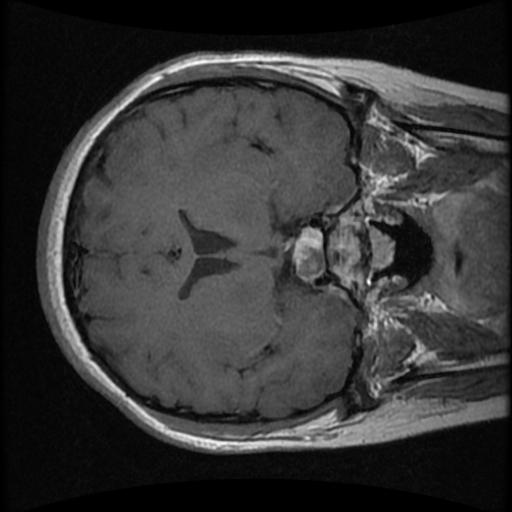pituitary tumour: (296, 229, 323, 278)
